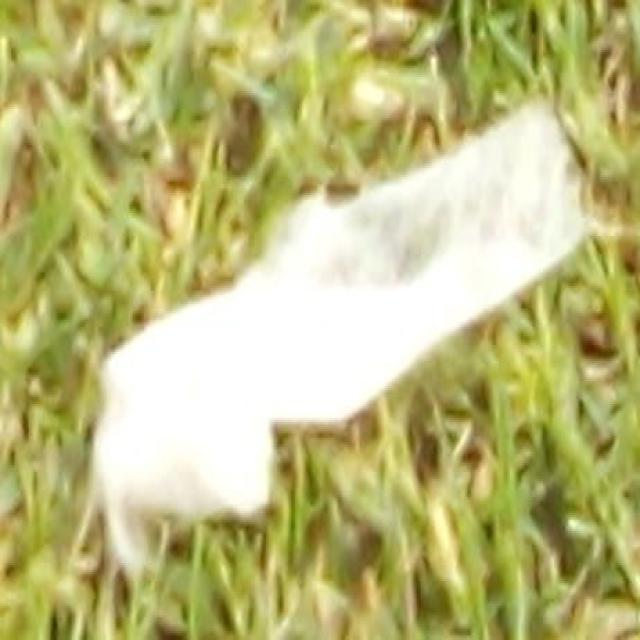litter: (91, 89, 585, 572)
